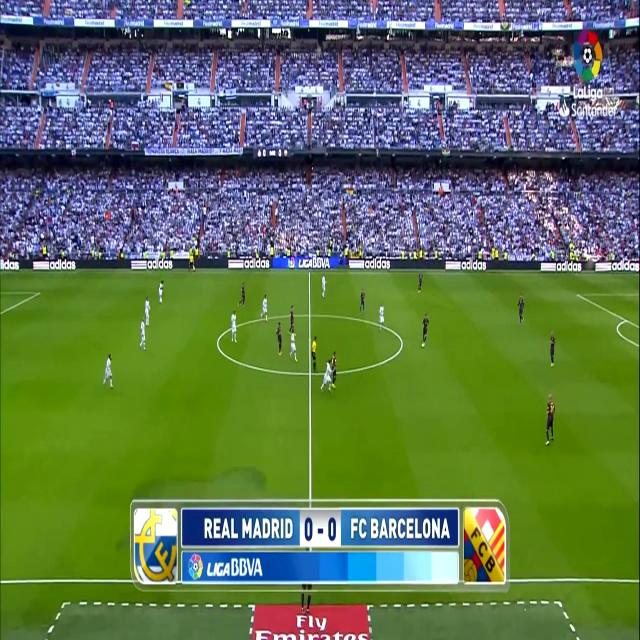halfcircle_top: (306, 306, 314, 322)
midline_bottom_intersection: (304, 486, 317, 508)
midline_top_intersection: (306, 266, 312, 278)
top_arc_area_intersection: (623, 313, 629, 325)
